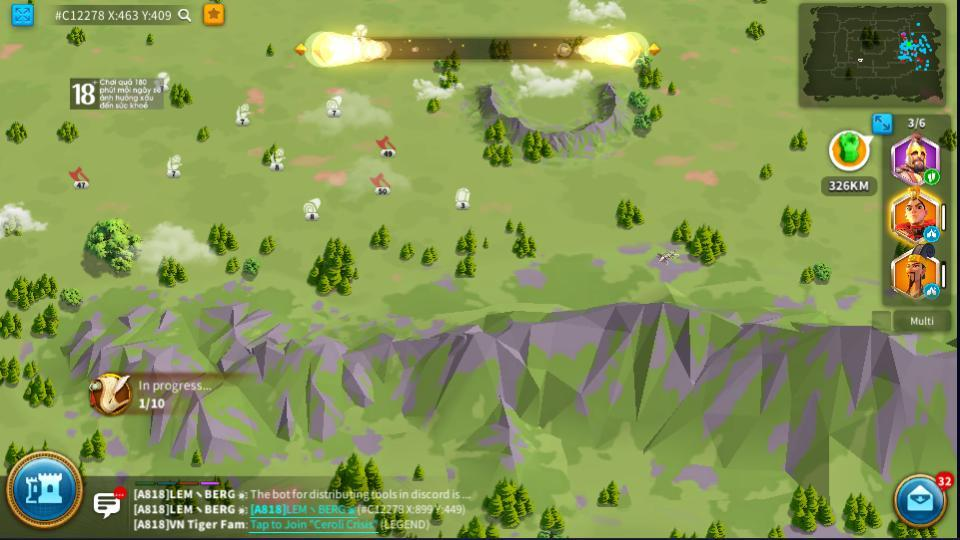gem-z-out: (453, 187, 471, 207)
march_idle: (923, 284, 939, 297), (923, 227, 938, 239)
march_marching: (923, 170, 938, 184)
